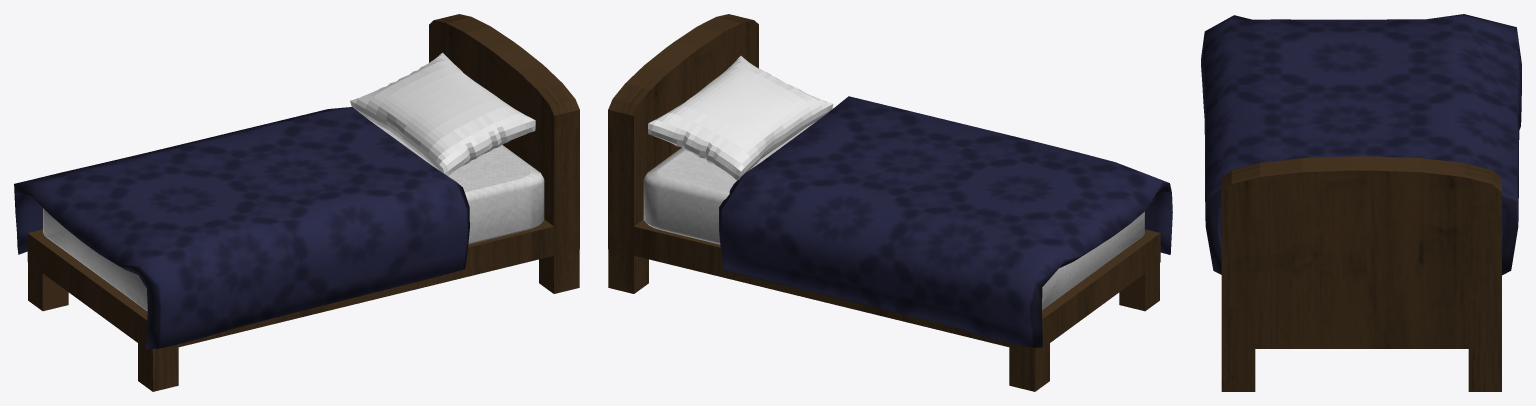
The model's file is cama3.fbx.
The picture shows the model from 3 angles, left to right: view 1: azimuth 30°, elevation 25°; view 2: azimuth 150°, elevation 25°; view 3: azimuth 270°, elevation 25°; orthographic projection. The views are drawn at different scales.
Visible parts, largest first — view 1: cama3; view 2: cama3; view 3: cama3.
Boxes of the visible parts, <box> form: cama3: <box>14,14,579,391</box>; cama3: <box>608,14,1172,391</box>; cama3: <box>1201,14,1521,391</box>.
Size of the model in its own units: 3970 by 1701 by 2234.
